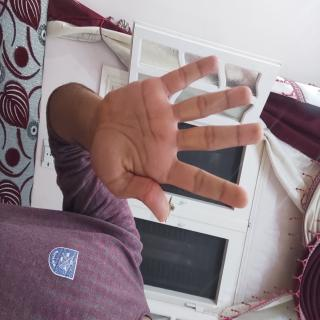SHEEN: (34, 69, 178, 319)
